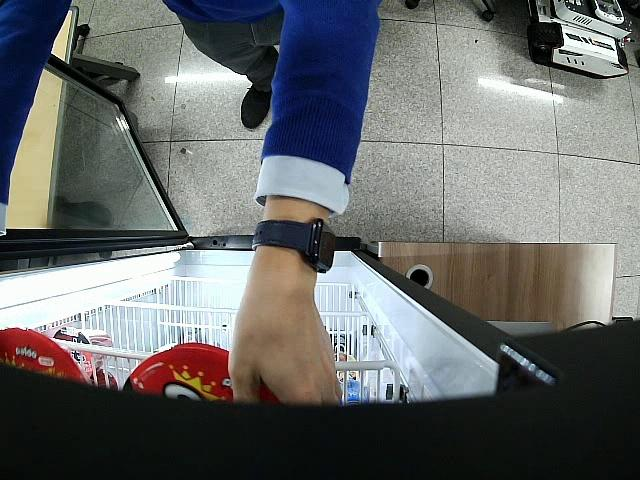00_hand: (228, 272, 343, 404)
10_wangTtukkeong: (123, 342, 281, 404), (0, 328, 96, 383)
